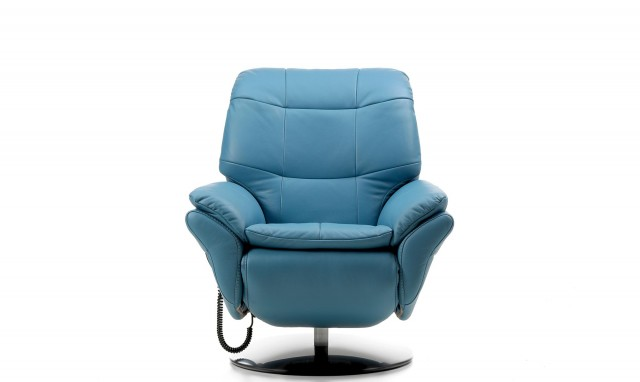chairs: (181, 66, 454, 380)
